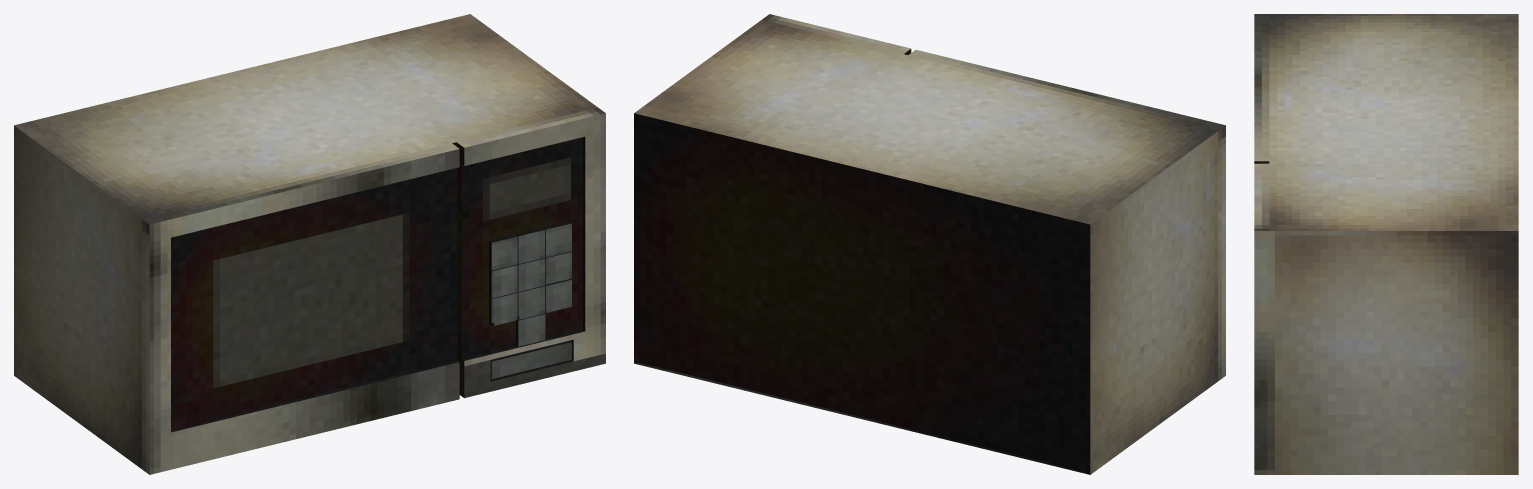
The model's file is Microwave.fbx.
3 renders of one model, left to right at view 1: azimuth 30°, elevation 25°; view 2: azimuth 150°, elevation 25°; view 3: azimuth 270°, elevation 25°, orthographic. The views are drawn at different scales.
Visible parts, largest first — view 1: Cube.003; view 2: Cube.003; view 3: Cube.003.
Part boxes in pixels (bbox=[...]): Cube.003: bbox=[14, 14, 605, 474]; Cube.003: bbox=[634, 14, 1225, 474]; Cube.003: bbox=[1254, 14, 1518, 474].
Size of the model in its own units: 515 by 270 by 265.
